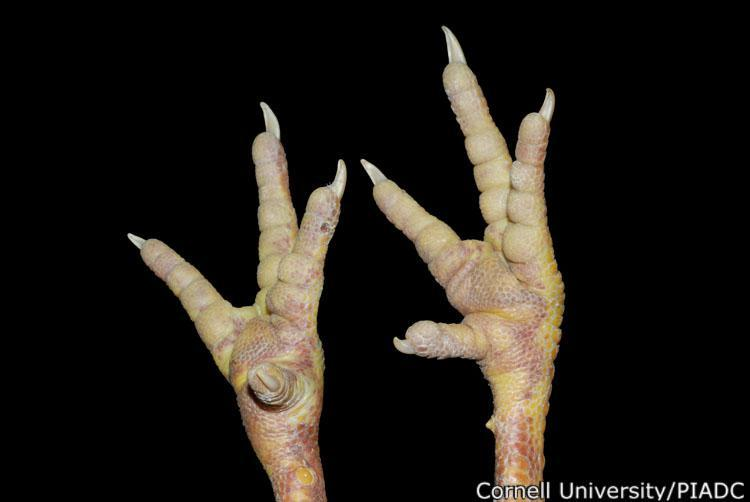AbNormal: (125, 24, 564, 502)
